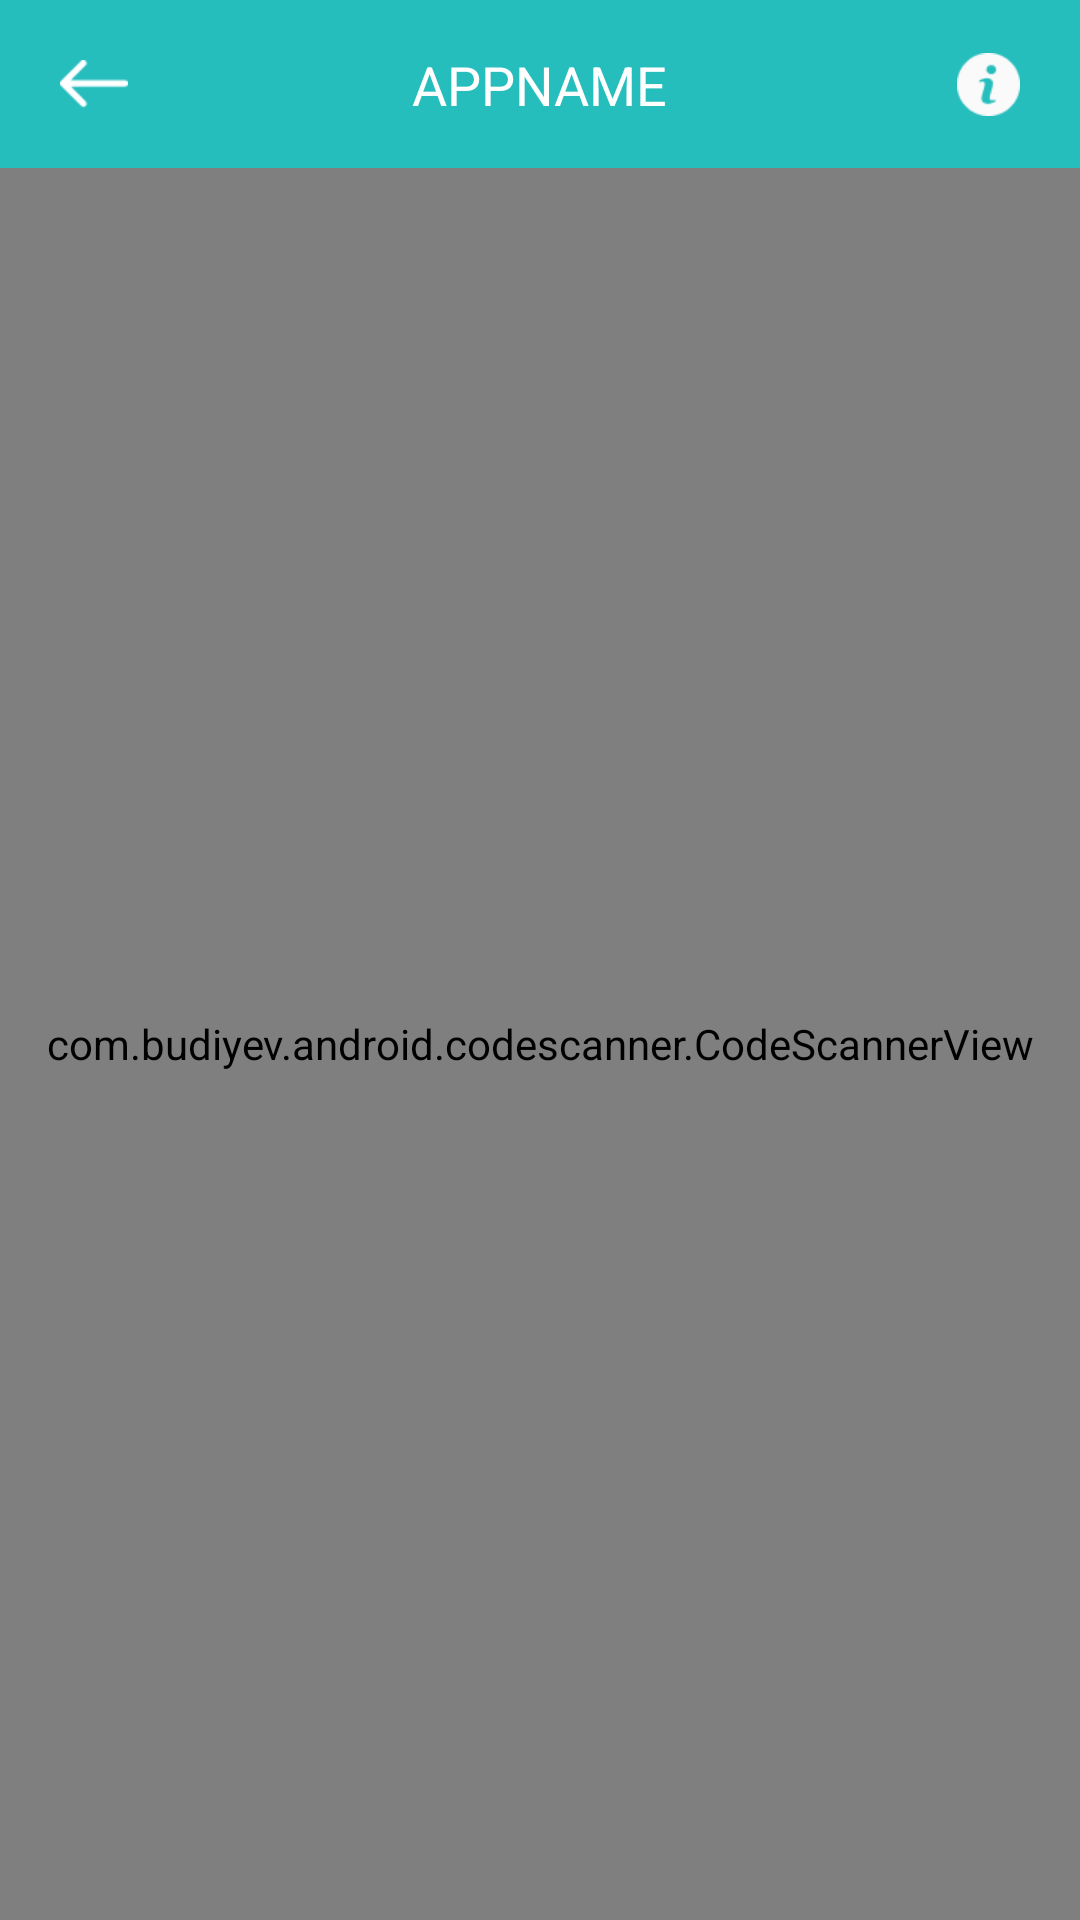

Point at icon controls on the screen. Image size 1080×1920, points as [x,y].
back: [94,84]
